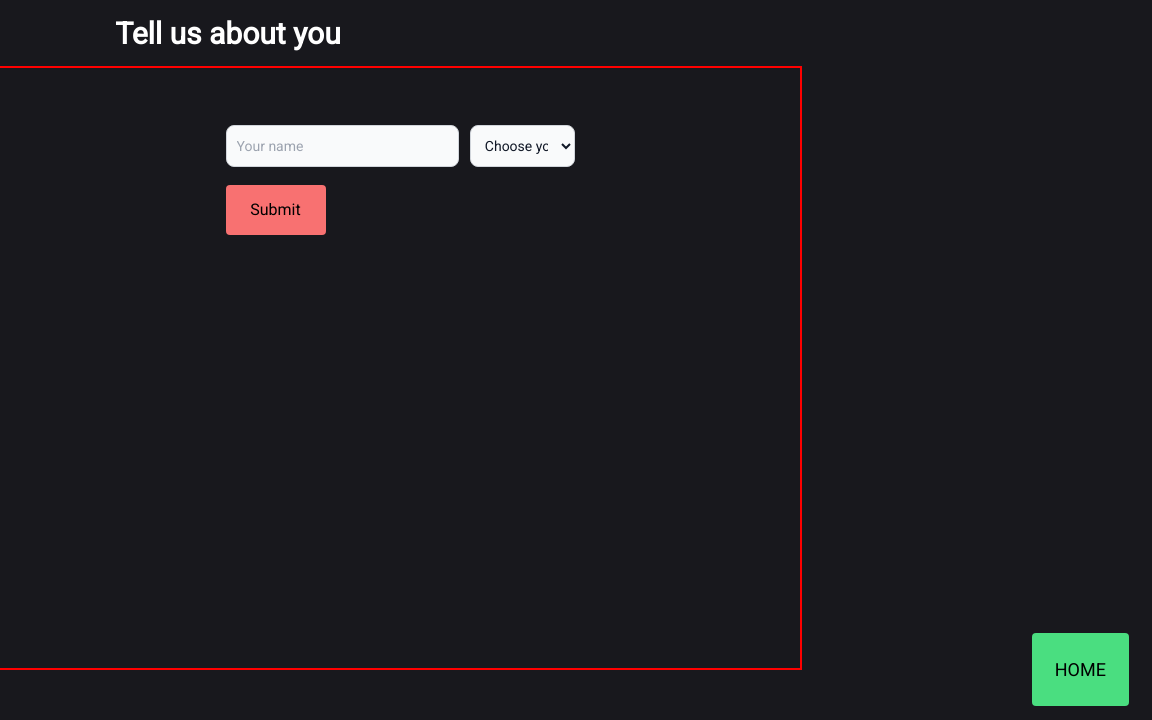
Scenario: FormPage › it should show inputs depending on which gender was selected
The image size is (1152, 720).
Select "Male" in the dropdown with id "gender": (522, 146) [470,125,574,167]
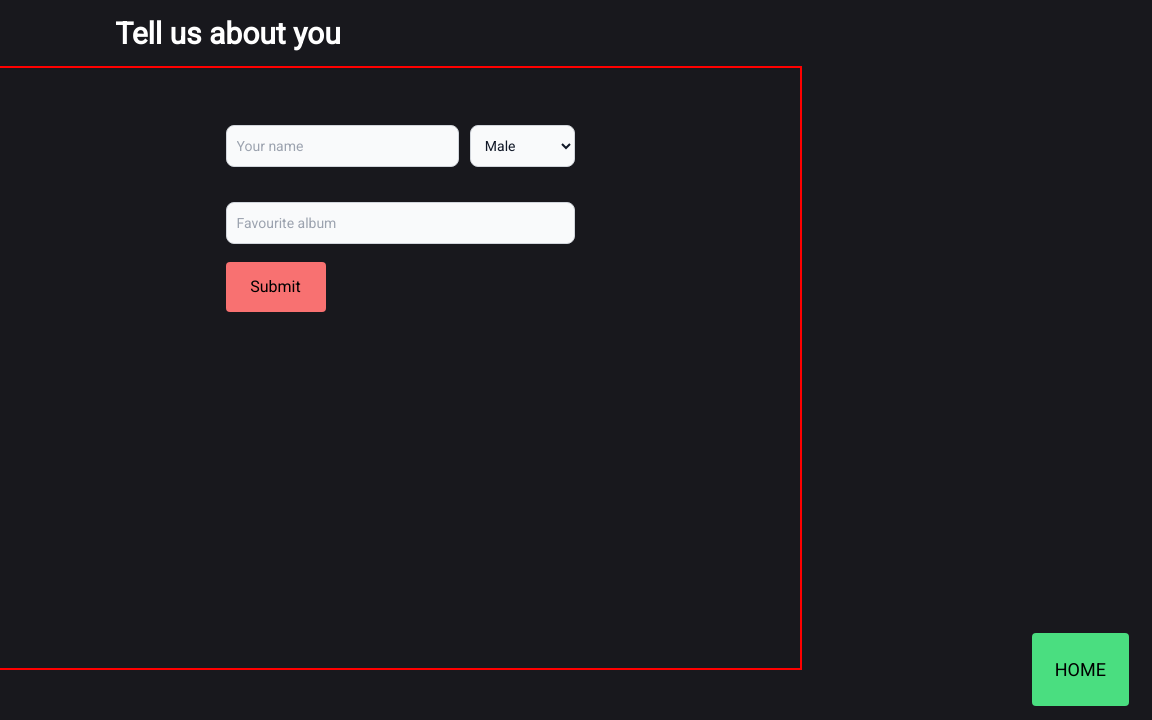
Now the field with id "album" is shown, box [226,202,574,244]
Select "Female" in the dropdown with id "gender": (522, 146) [470,125,574,167]
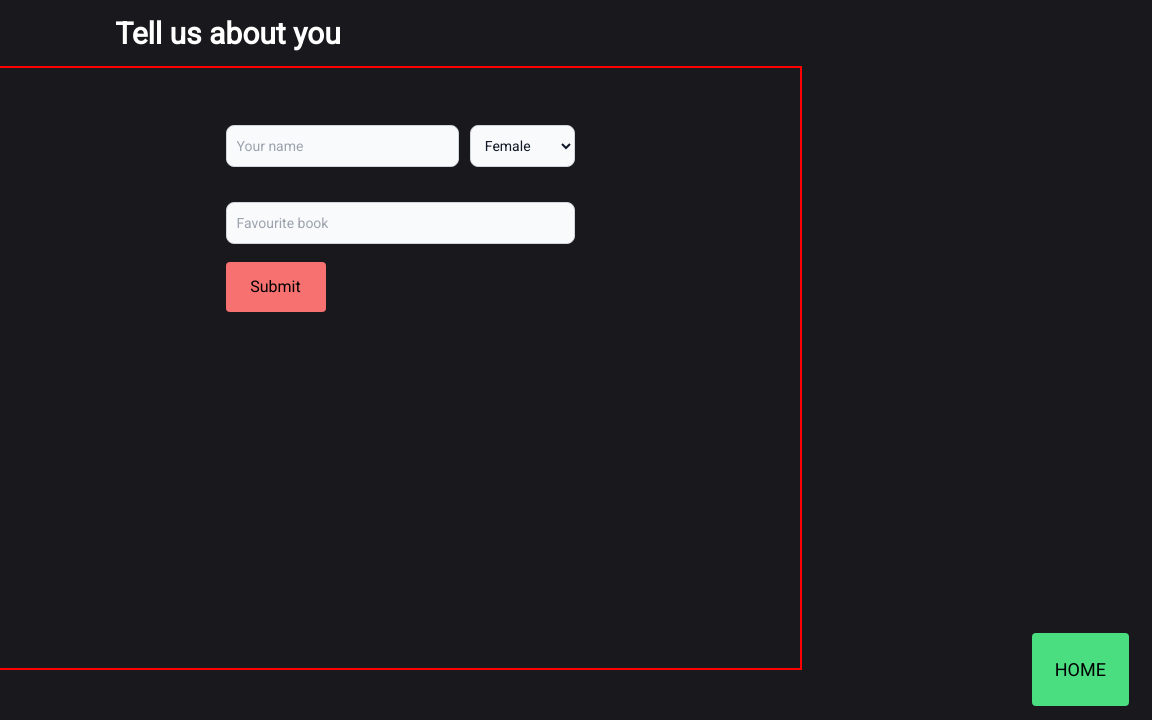
Now the field with id "book" is shown, box [226,202,574,244]
Select "Non Binary" in the dropdown with id "gender": (522, 146) [470,125,574,167]
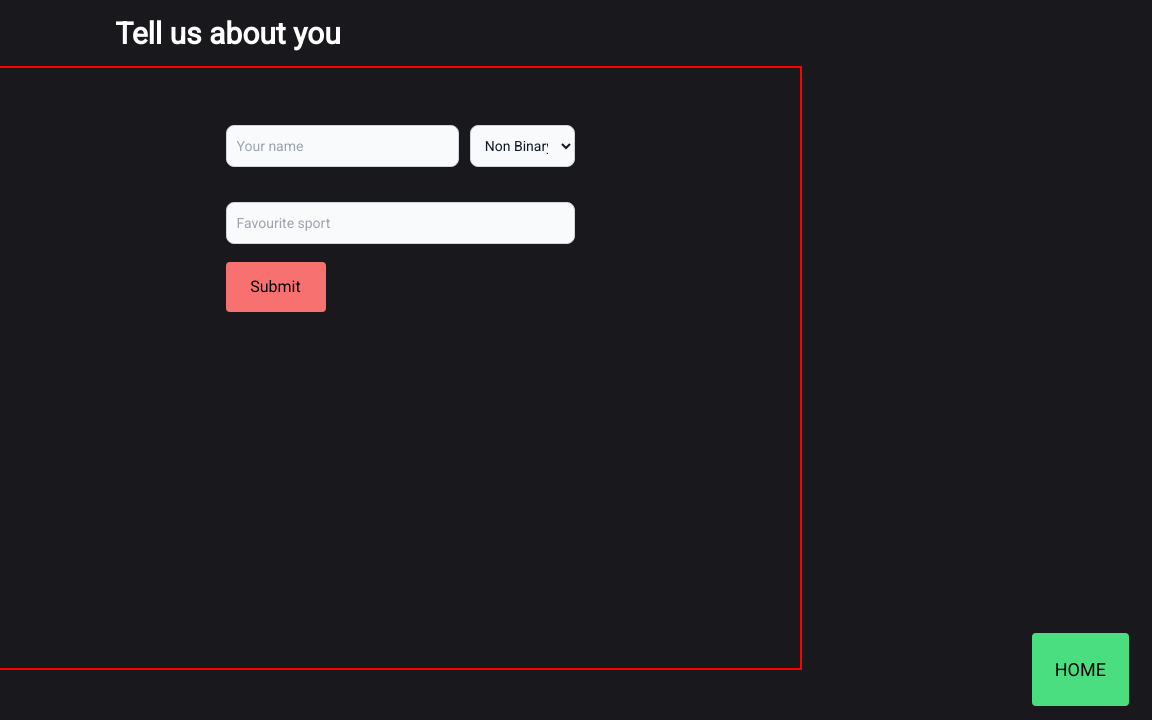
Now the field with id "sport" is shown, box [226,202,574,244]
